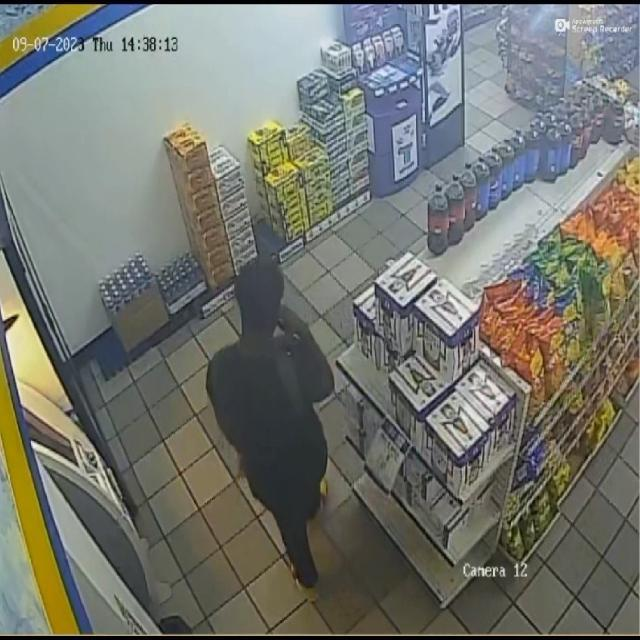Normal: (192, 227, 376, 618)
